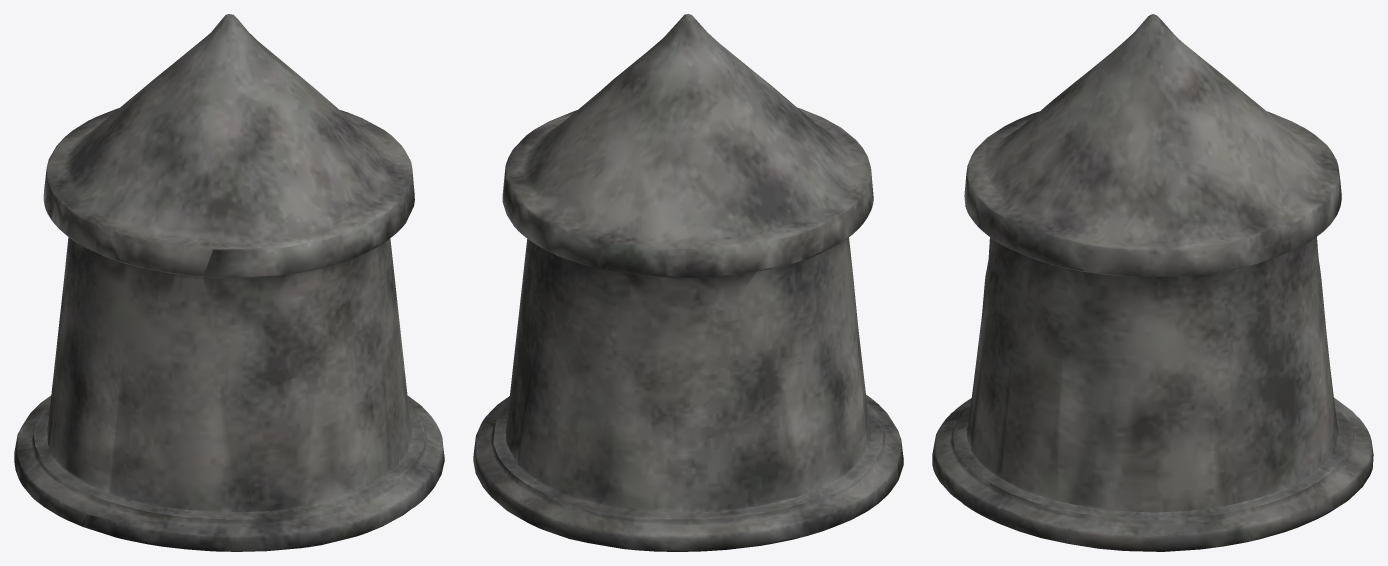
Rendered from chipped-granite-turret-top-v001.glb.
The picture shows the model from 3 angles, left to right: view 1: azimuth 30°, elevation 25°; view 2: azimuth 150°, elevation 25°; view 3: azimuth 270°, elevation 25°; orthographic projection.
Parts seen in each view (by area): view 1: chipped-granite-turret-top; view 2: chipped-granite-turret-top; view 3: chipped-granite-turret-top.
Boxes of the visible parts, x1,y1,x2,y2 form: chipped-granite-turret-top: (14,14,444,551); chipped-granite-turret-top: (473,14,903,551); chipped-granite-turret-top: (932,14,1373,551).
Bounding box in the file's own units: 2.18 × 2.48 × 2.22.
Materials: 1 (1 with a texture image).
